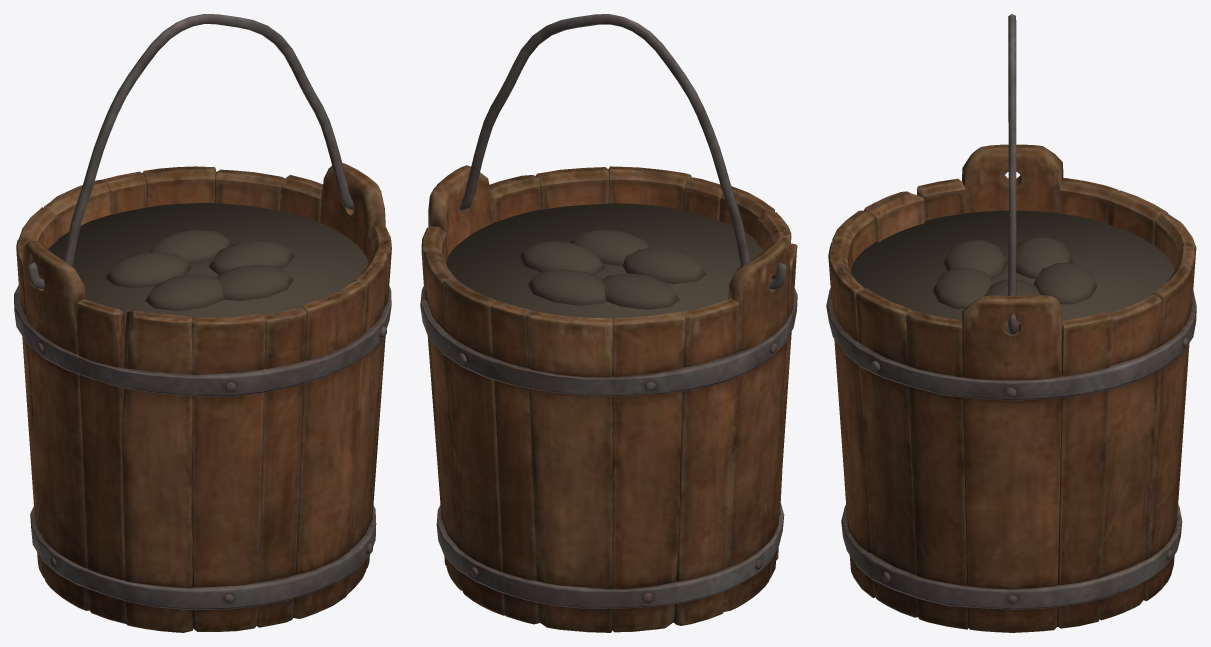
File: mudbucket.glb
The picture shows the model from 3 angles, left to right: view 1: azimuth 30°, elevation 25°; view 2: azimuth 150°, elevation 25°; view 3: azimuth 270°, elevation 25°; orthographic projection.
Parts seen in each view (by area): view 1: wooden_bucket_01.001, mud, wooden_bucket_01_handle.001, lump.002, lump.003, lump.004, lump, lump.001; view 2: wooden_bucket_01.001, mud, wooden_bucket_01_handle.001, lump.001, lump.003, lump.002, lump, lump.004; view 3: wooden_bucket_01.001, mud, wooden_bucket_01_handle.001, lump.001, lump.004, lump.003, lump.002, lump.
Boxes of the visible parts, x1=… form: wooden_bucket_01.001: x1=14, y1=163, x2=391, y2=632; mud: x1=48, y1=203, x2=368, y2=337; wooden_bucket_01_handle.001: x1=27, y1=14, x2=354, y2=289; lump.002: x1=105, y1=252, x2=191, y2=288; lump.003: x1=145, y1=274, x2=224, y2=310; lump.004: x1=217, y1=264, x2=293, y2=300; lump: x1=208, y1=240, x2=294, y2=274; lump.001: x1=149, y1=229, x2=232, y2=264; wooden_bucket_01.001: x1=420, y1=165, x2=797, y2=632; mud: x1=445, y1=203, x2=763, y2=320; wooden_bucket_01_handle.001: x1=437, y1=14, x2=786, y2=289; lump.001: x1=527, y1=269, x2=606, y2=305; lump.003: x1=622, y1=247, x2=706, y2=283; lump.002: x1=602, y1=273, x2=679, y2=309; lump: x1=519, y1=241, x2=605, y2=275; lump.004: x1=570, y1=229, x2=649, y2=265; wooden_bucket_01.001: x1=826, y1=144, x2=1196, y2=632; mud: x1=850, y1=210, x2=1174, y2=325; wooden_bucket_01_handle.001: x1=1008, y1=14, x2=1016, y2=335; lump.001: x1=1033, y1=263, x2=1096, y2=304; lump.004: x1=932, y1=267, x2=993, y2=308; lump.003: x1=943, y1=240, x2=1007, y2=278; lump.002: x1=1016, y1=237, x2=1072, y2=278; lump: x1=984, y1=279, x2=1040, y2=295.
Bounding box in the file's own units: 0.367 × 0.5499 × 0.3422.
Materials: 2 (1 with a texture image).
